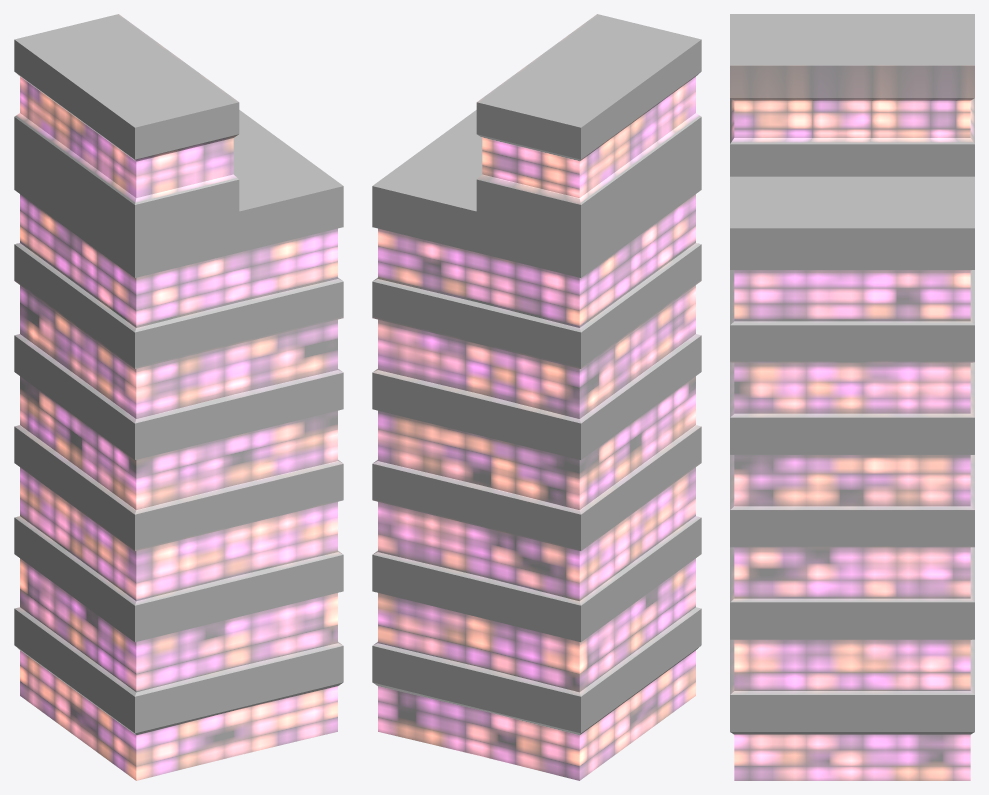
File: BuildingHalfRoof.fbx
3 renders of one model, left to right at view 1: azimuth 30°, elevation 25°; view 2: azimuth 150°, elevation 25°; view 3: azimuth 270°, elevation 25°, orthographic.
Visible parts, largest first — view 1: BuildingHalfRoof; view 2: BuildingHalfRoof; view 3: BuildingHalfRoof.
Boxes of the visible parts, x1,y1,x2,y2 form: BuildingHalfRoof: [14, 14, 343, 780]; BuildingHalfRoof: [372, 14, 701, 780]; BuildingHalfRoof: [730, 14, 974, 780].
Bounding box in the file's own units: 200 × 600 × 200.
